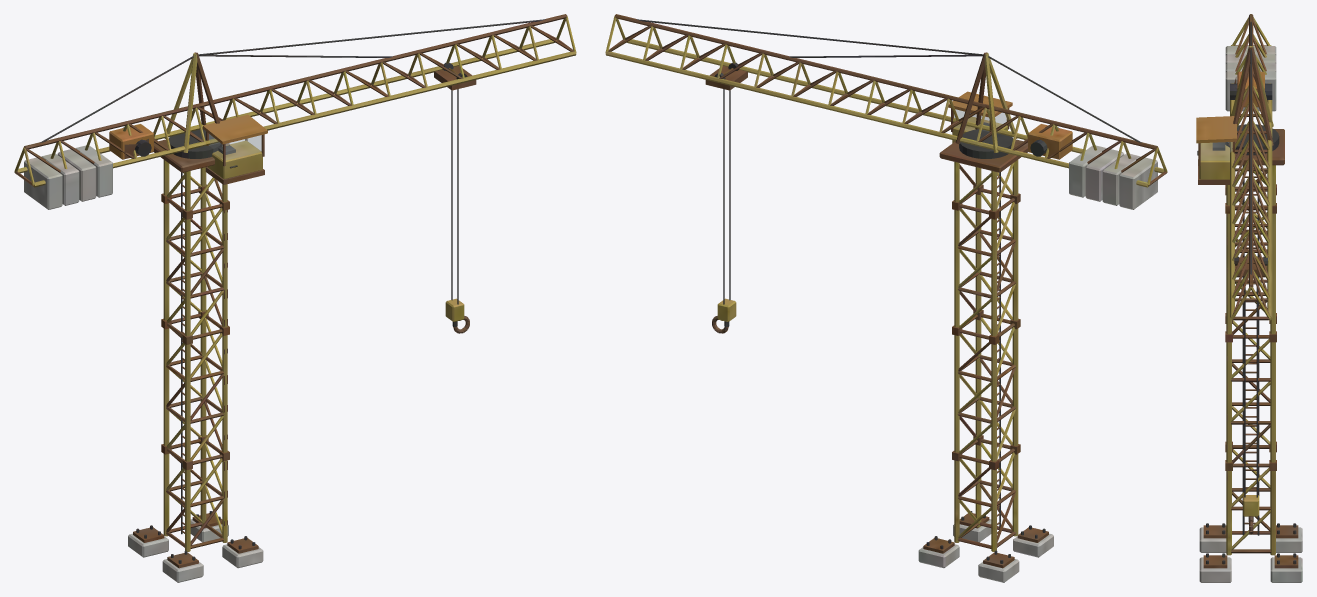
The model's file is CS02_tower_crane.glb.
3 views of the same model, side by side, from view 1: azimuth 30°, elevation 25°; view 2: azimuth 150°, elevation 25°; view 3: azimuth 270°, elevation 25° (orthographic). The views are drawn at different scales.
Parts seen in each view (by area): view 1: Cracked foundation block; view 2: Cracked foundation block; view 3: Cracked foundation block.
Boxes of the visible parts, box(x1,y1,x2,y2) form: Cracked foundation block: box(14, 14, 576, 582); Cracked foundation block: box(605, 14, 1167, 582); Cracked foundation block: box(1196, 14, 1302, 582).
Size of the model in its own units: 20 by 17.62 by 3.3.
Materials: 7 (6 with a texture image).
